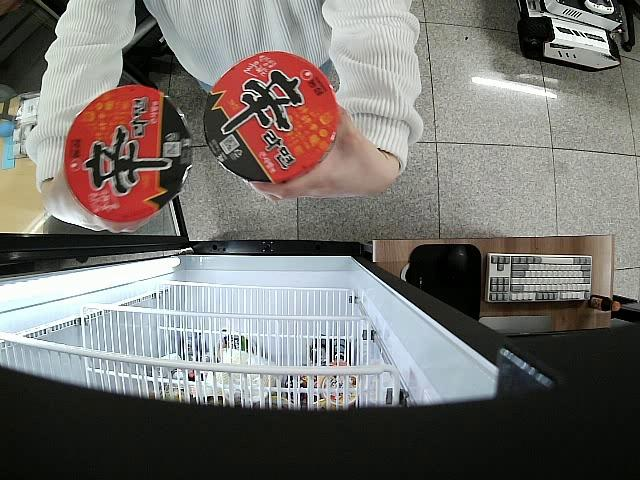00_hand: (245, 102, 363, 204), (50, 149, 161, 234)
01_shinRamen_L: (203, 51, 339, 185), (64, 84, 195, 223)
